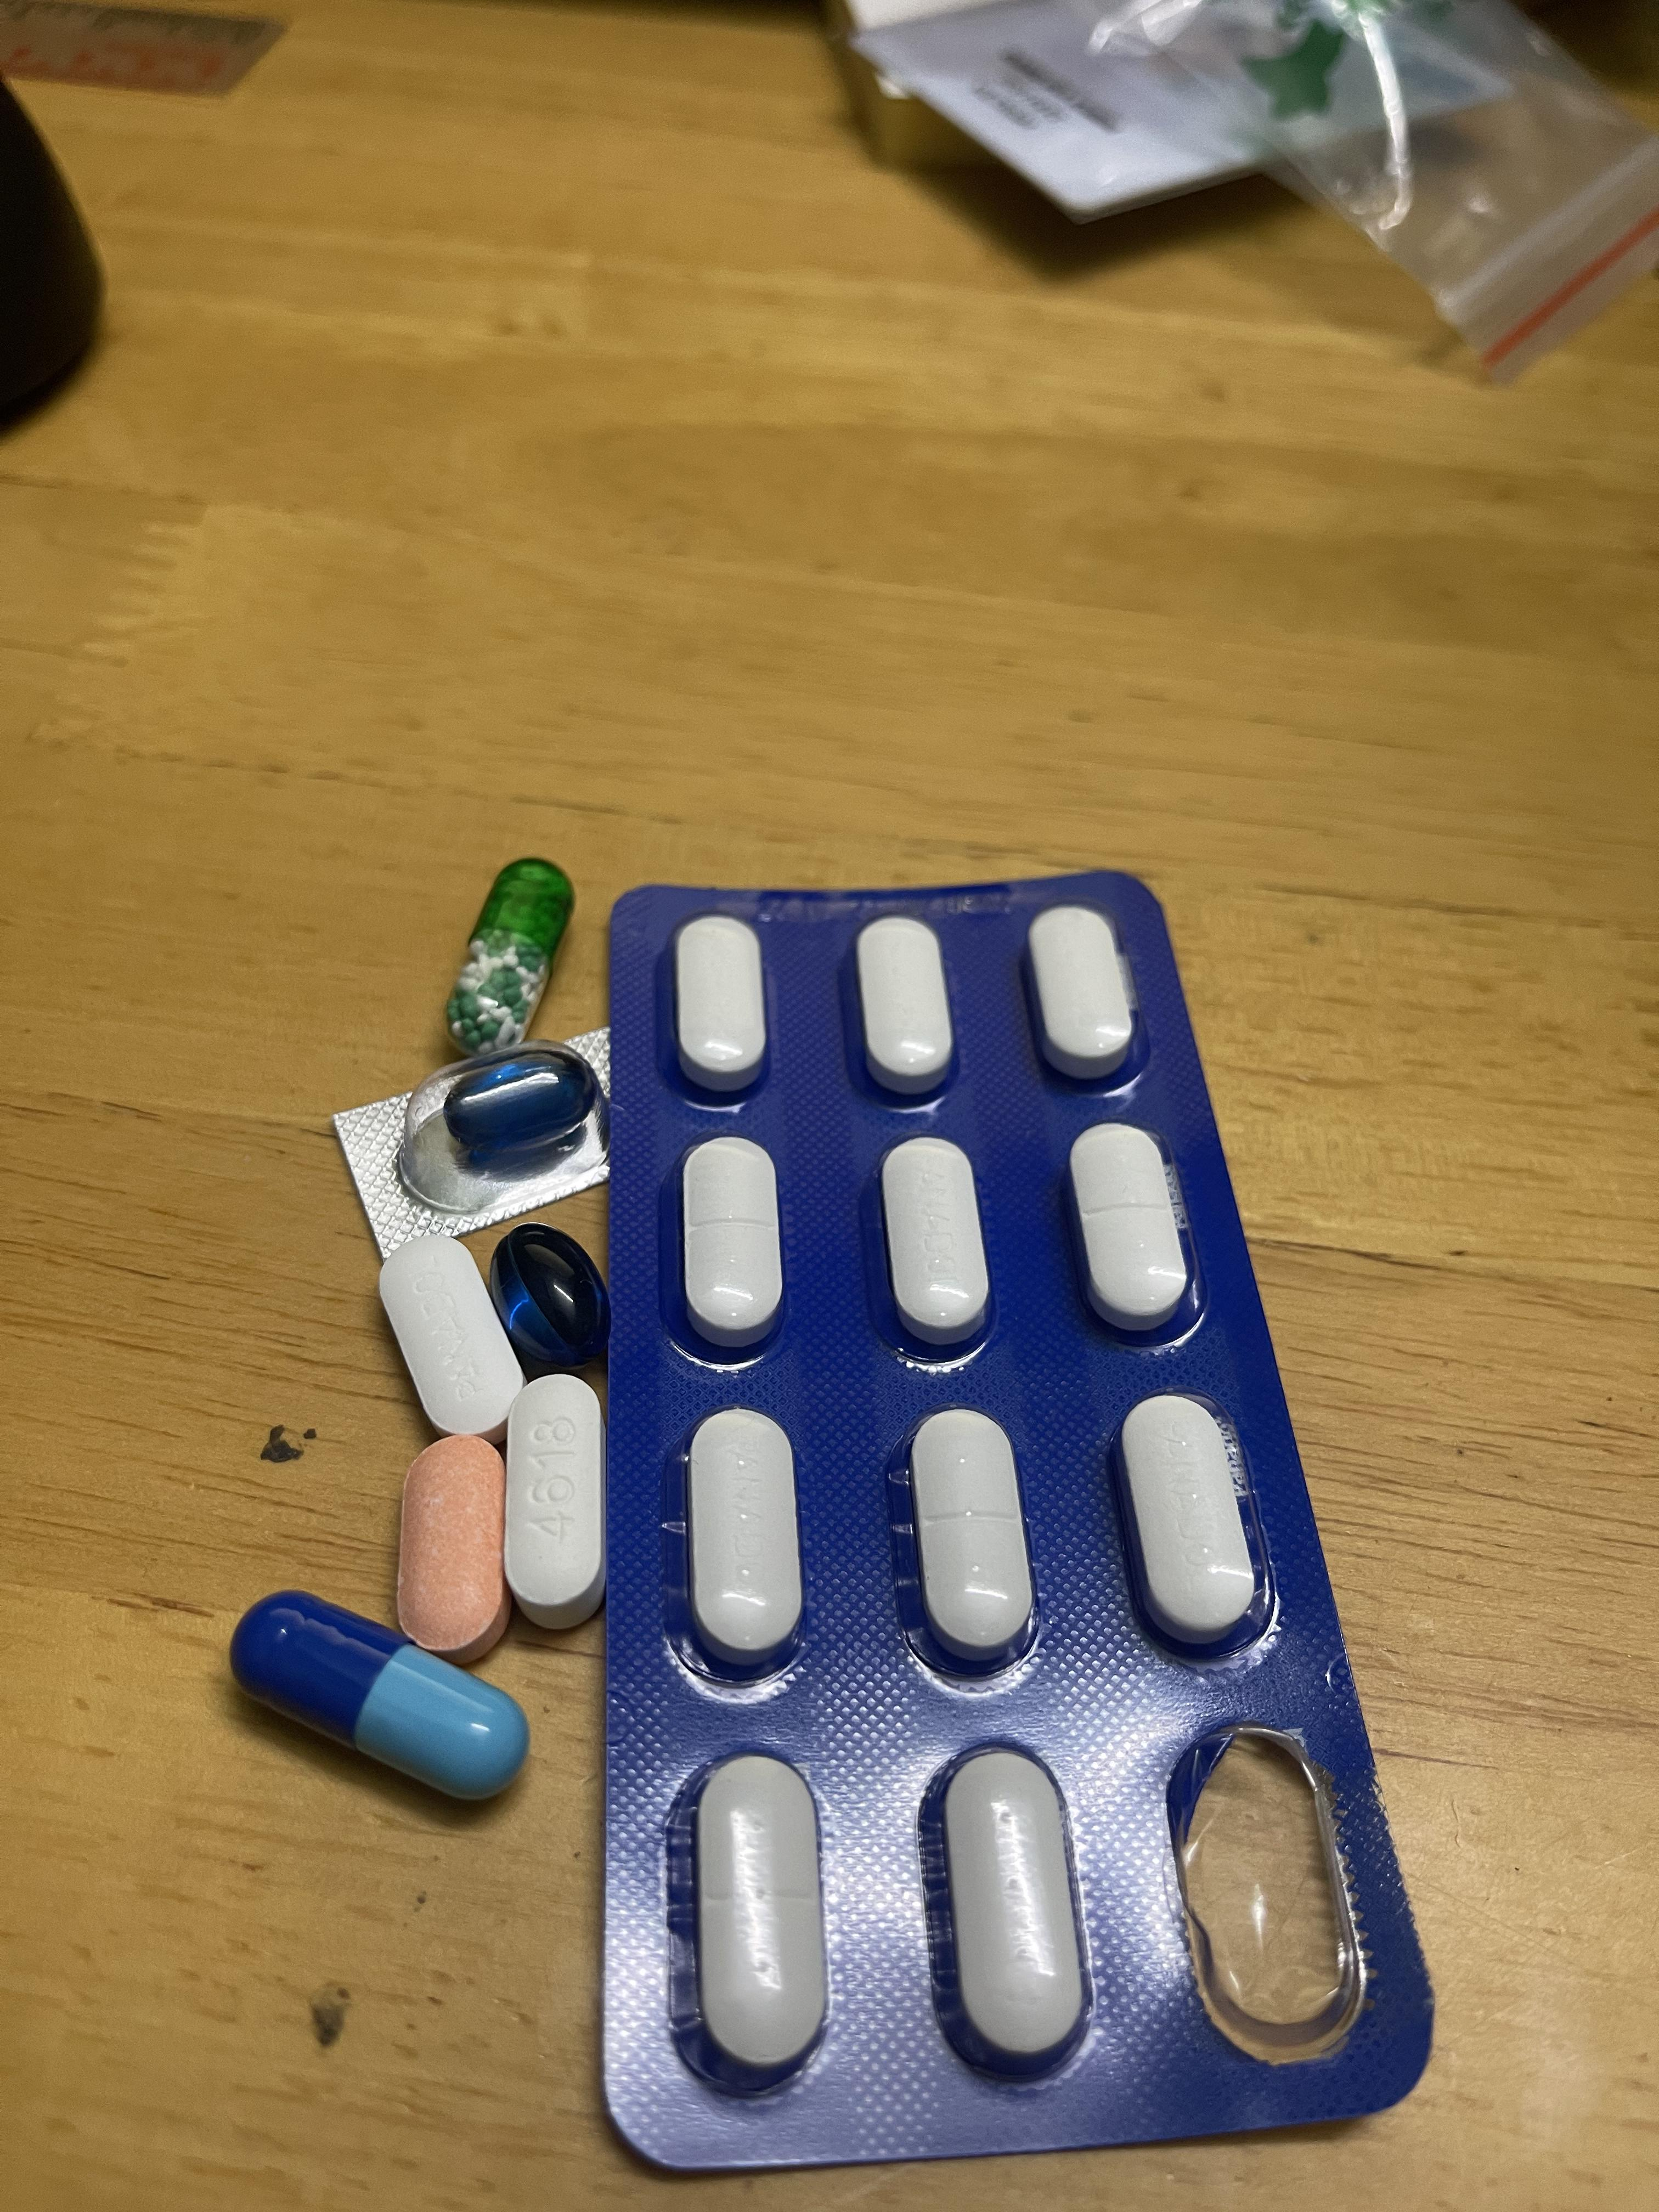Lincomyxin_500mg: (490, 1221, 612, 1374), (443, 1055, 594, 1158)
Loratadine_10mg: (396, 1437, 505, 1649)
Paracetamol_350mg: (667, 1745, 828, 2092), (939, 1743, 1086, 2062), (1112, 1390, 1262, 1660), (899, 1406, 1039, 1674), (683, 1407, 805, 1674), (378, 1233, 526, 1444), (1068, 1123, 1192, 1334), (878, 1136, 993, 1348), (680, 1137, 784, 1353), (1025, 904, 1138, 1080), (854, 916, 957, 1092), (673, 914, 769, 1089)
Paracetamol_500mg: (502, 1378, 606, 1616)
Paracetamol_650mg: (448, 862, 570, 1054)
pill: (232, 1595, 523, 1806)
